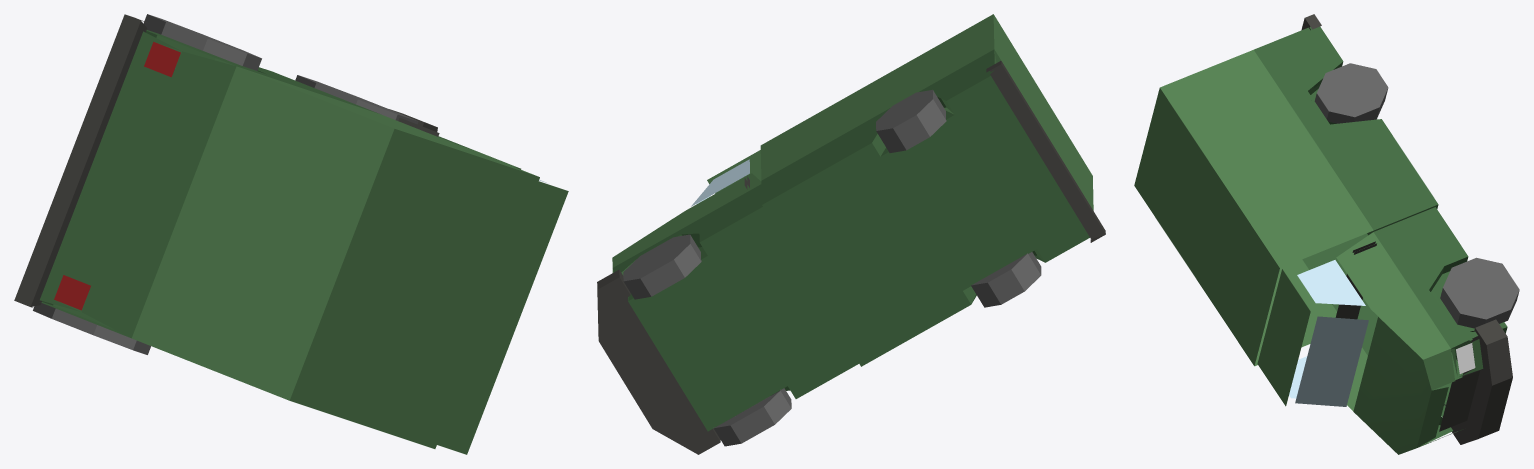
The model's file is Truck_2-0.7.gltf.
3 views of the same model, side by side, from view 1: azimuth 30°, elevation 25°; view 2: azimuth 150°, elevation 25°; view 3: azimuth 270°, elevation 25° (orthographic). The views are drawn at different scales.
Parts seen in each view (by area): view 1: Truck_2; view 2: Truck_2; view 3: Truck_2.
Part boxes in pixels (bbox=[...]): Truck_2: bbox=[14, 14, 568, 454]; Truck_2: bbox=[597, 14, 1105, 454]; Truck_2: bbox=[1134, 14, 1519, 454].
Bounding box in the file's own units: 0.0757 × 0.0653 × 0.068.
Materials: 1 (1 with a texture image).
